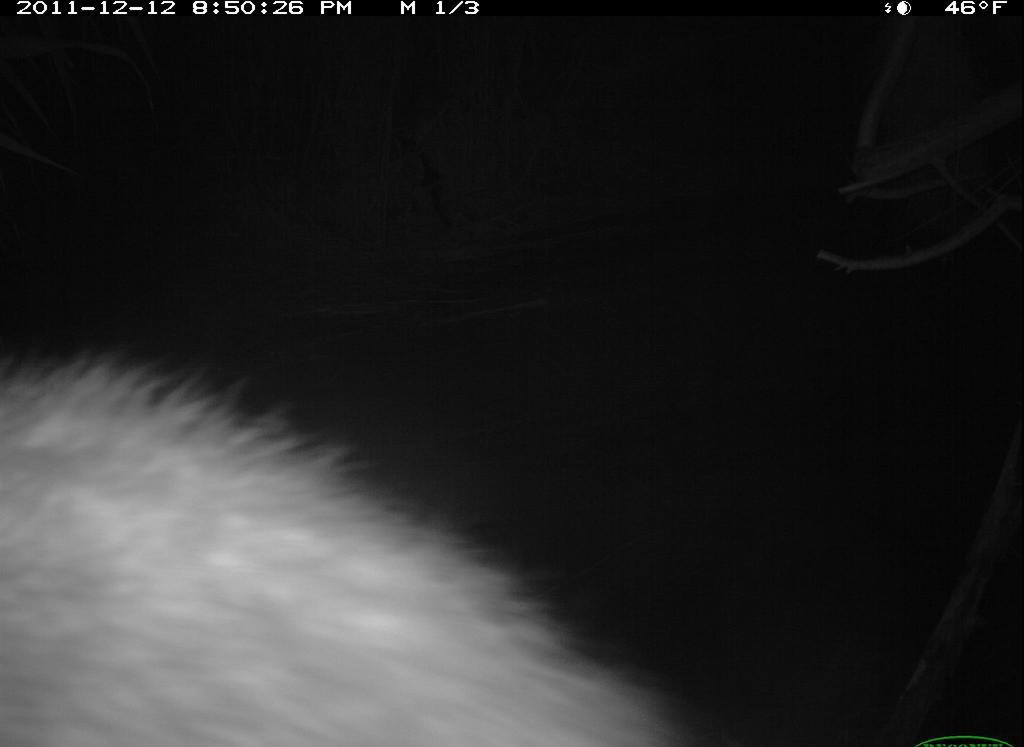raccoon: (2, 351, 716, 747)
